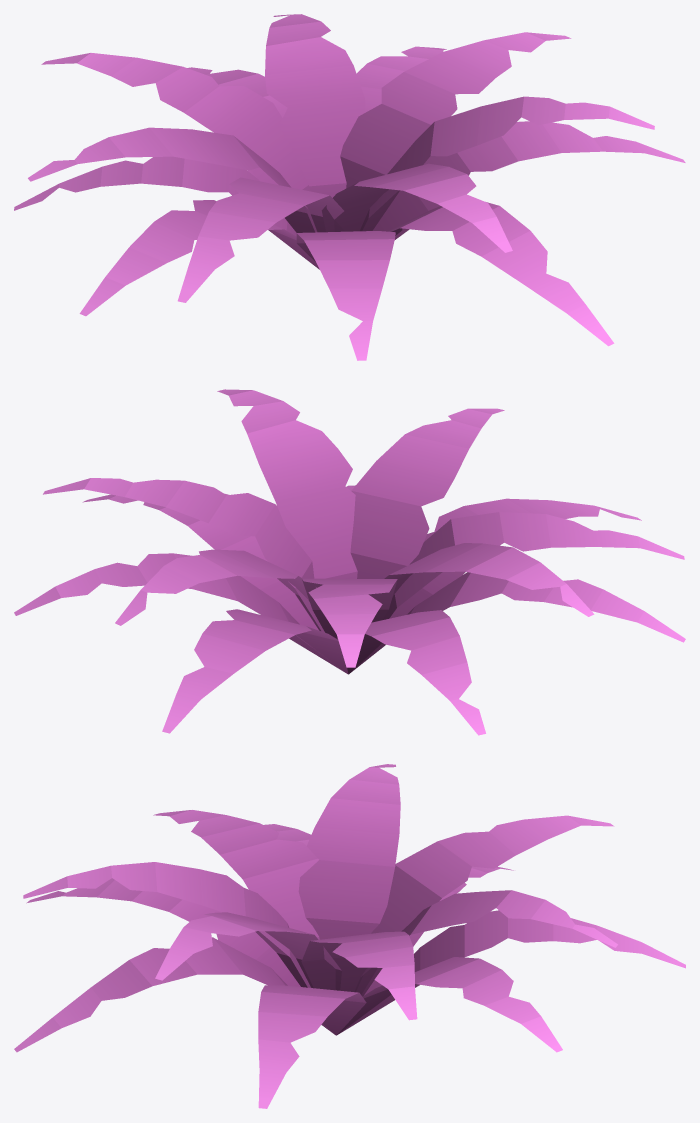
Rendered from SpringDoubleFern.fbx.
The picture shows the model from 3 angles, top to bottom: view 1: azimuth 30°, elevation 25°; view 2: azimuth 150°, elevation 25°; view 3: azimuth 270°, elevation 25°; orthographic projection. The views are drawn at different scales.
Visible parts, largest first — view 1: SpringDoubleFern; view 2: SpringDoubleFern; view 3: SpringDoubleFern.
Part boxes in pixels (box(x1,y1,x2,y2)): SpringDoubleFern: box(14, 14, 685, 360); SpringDoubleFern: box(14, 389, 685, 735); SpringDoubleFern: box(14, 764, 685, 1108).
Bounding box in the file's own units: 433 × 127 × 434.
